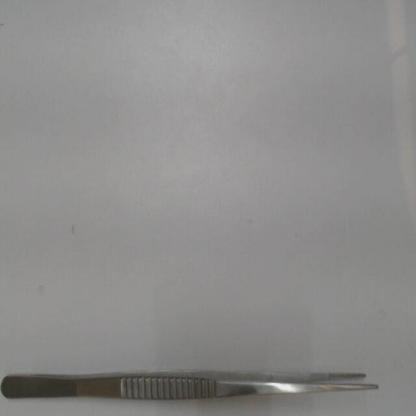DeBakey Dissector: (1, 351, 406, 411)
